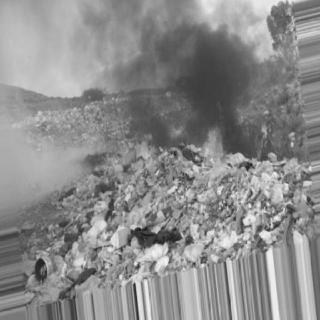Fire: (198, 115, 234, 159), (240, 121, 274, 163), (133, 134, 171, 161)
Smoke: (120, 1, 258, 125), (1, 132, 33, 204)
